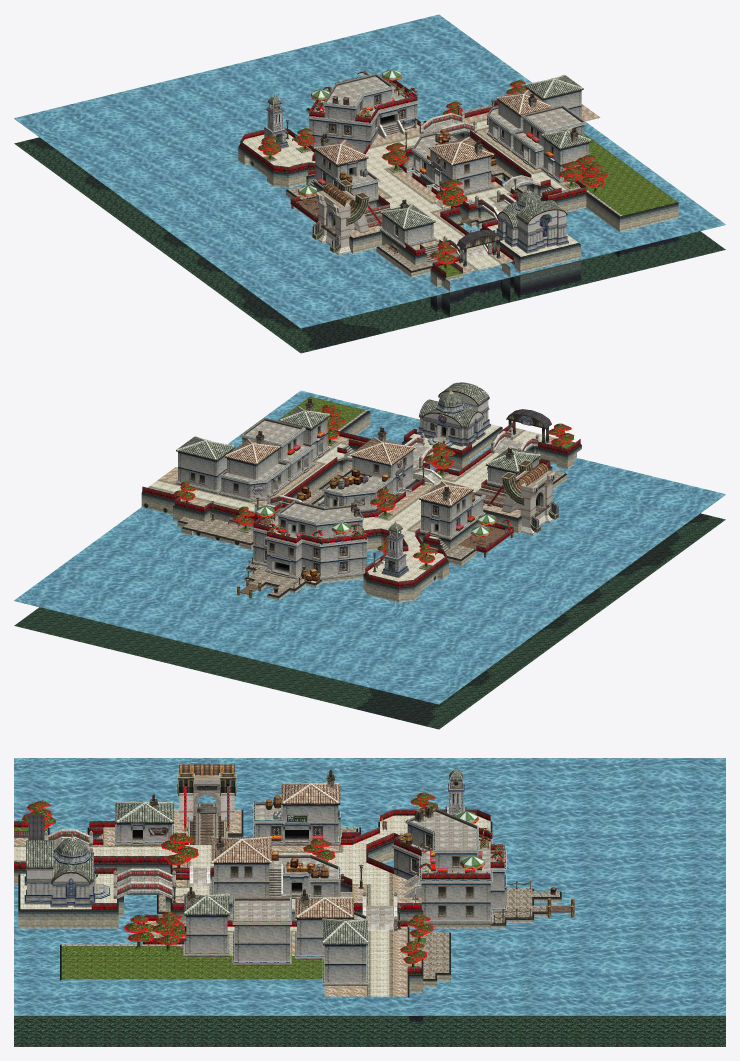
The model's file is Ruan1.obj.
3 views of the same model, one above another, from view 1: azimuth 30°, elevation 25°; view 2: azimuth 150°, elevation 25°; view 3: azimuth 270°, elevation 25° (orthographic). The views are drawn at different scales.
Parts seen in each view (by area): view 1: Object.014; view 2: Object.014; view 3: Object.014.
Boxes of the visible parts, x1,y1,x2,y2 form: Object.014: (14, 14, 725, 353); Object.014: (14, 382, 725, 729); Object.014: (14, 758, 725, 1046).
Size of the model in its own units: 88.03 by 18.44 by 103.
36 materials, 36 textured.
